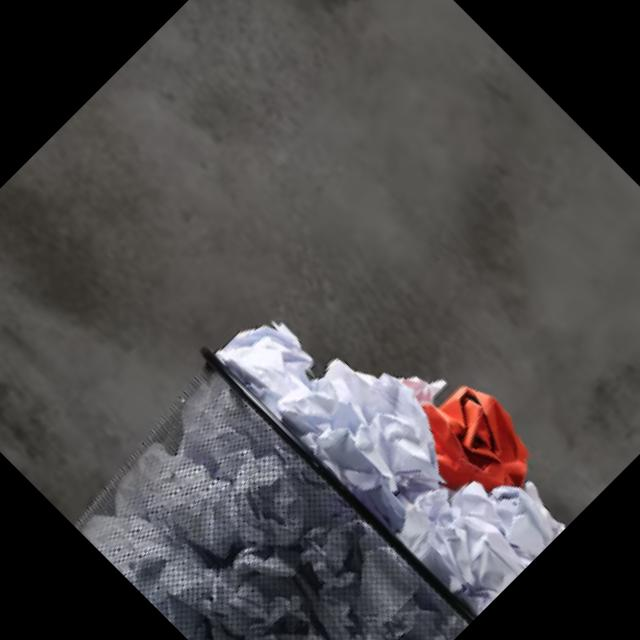KertasBekas: (51, 228, 593, 640), (210, 233, 594, 616), (392, 362, 554, 524)
